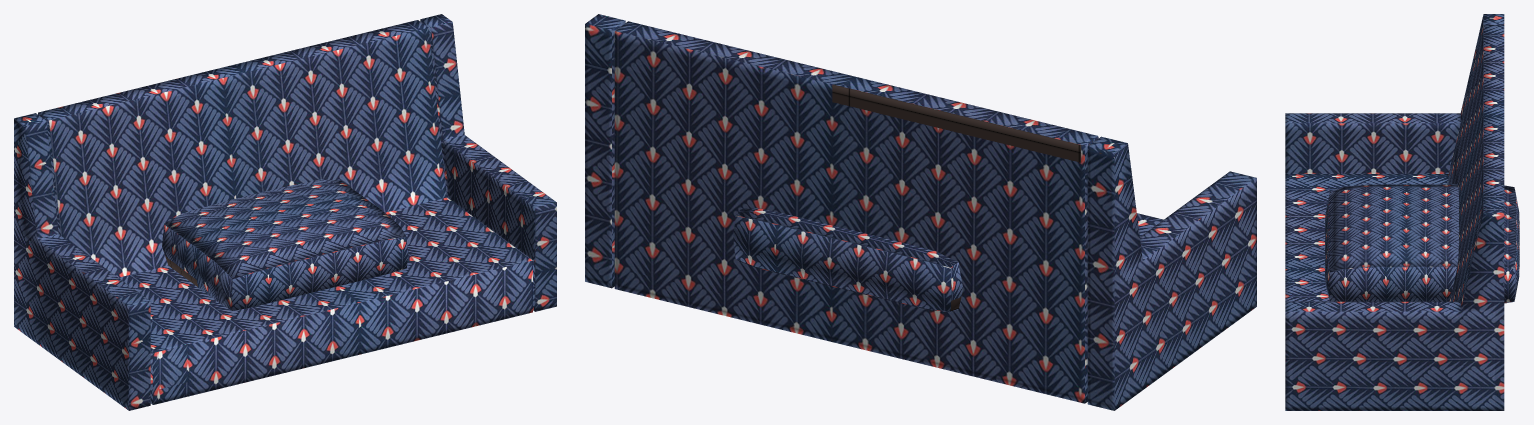
Rendered from sofa_1.fbx.
3 views of the same model, side by side, from view 1: azimuth 30°, elevation 25°; view 2: azimuth 150°, elevation 25°; view 3: azimuth 270°, elevation 25° (orthographic). The views are drawn at different scales.
Parts seen in each view (by area): view 1: CouchFrame, Cube.000; view 2: CouchFrame, Cube.000; view 3: CouchFrame, Cube.000.
Boxes of the visible parts, <box> form: CouchFrame: <box>14,14,556,410</box>; Cube.000: <box>162,179,408,310</box>; CouchFrame: <box>585,14,1256,410</box>; Cube.000: <box>733,208,962,312</box>; CouchFrame: <box>1285,14,1504,410</box>; Cube.000: <box>1325,184,1519,303</box>.
Size of the model in its own units: 0.7959 by 0.3706 by 0.3964.
